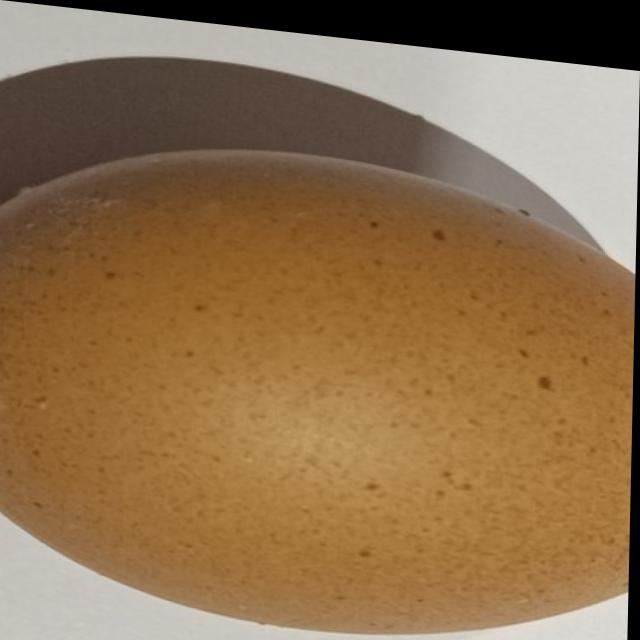unfresh: (0, 122, 638, 640)
